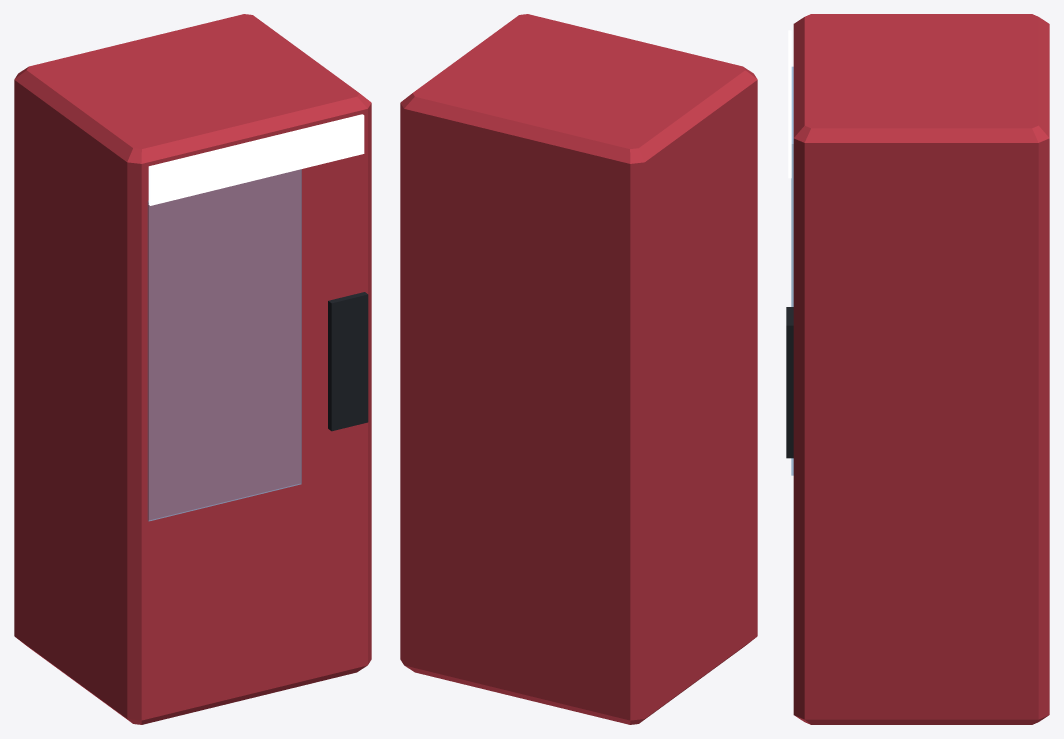
The model's file is vending_machine.glb.
3 views of the same model, side by side, from view 1: azimuth 30°, elevation 25°; view 2: azimuth 150°, elevation 25°; view 3: azimuth 270°, elevation 25° (orthographic). The views are drawn at different scales.
Parts seen in each view (by area): view 1: vending_machine; view 2: vending_machine; view 3: vending_machine.
Part boxes in pixels (x1,y1,x2,y2): vending_machine: (14, 14, 371, 724); vending_machine: (400, 14, 757, 724); vending_machine: (786, 14, 1049, 724).
Bounding box in the file's own units: 0.8 × 1.8 × 0.72.
